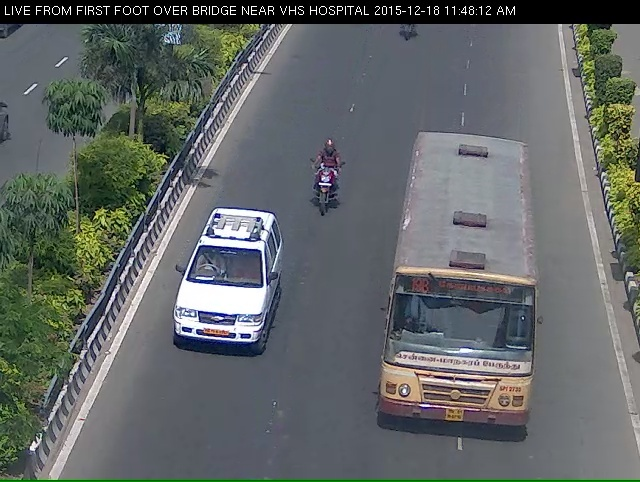Bus: (375, 140, 545, 465)
Car: (165, 231, 271, 394)
Person: (299, 160, 335, 233)
